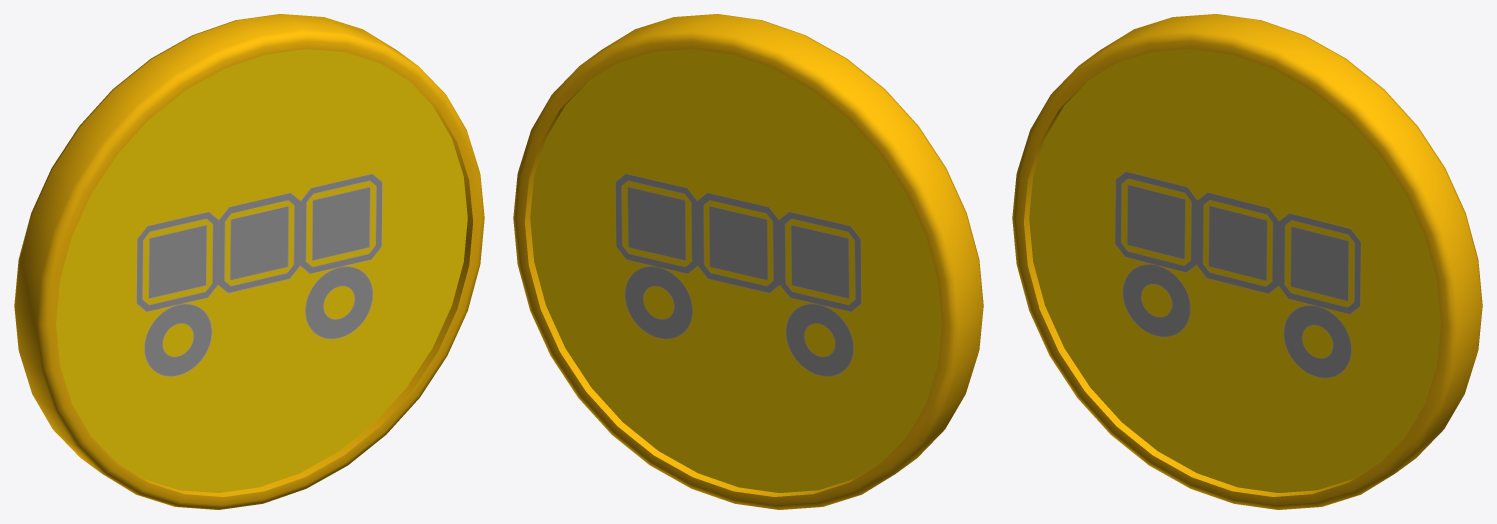
The model's file is coin.fbx.
3 views of the same model, side by side, from view 1: azimuth 30°, elevation 25°; view 2: azimuth 150°, elevation 25°; view 3: azimuth 330°, elevation 25° (orthographic).
Parts seen in each view (by area): view 1: coin; view 2: coin; view 3: coin.
Boxes of the visible parts, left/top/right/bottom form: coin: left=14, top=14, right=484, bottom=509; coin: left=513, top=14, right=983, bottom=509; coin: left=1012, top=14, right=1482, bottom=509.
Size of the model in its own units: 90.32 by 90.32 by 10.56.
